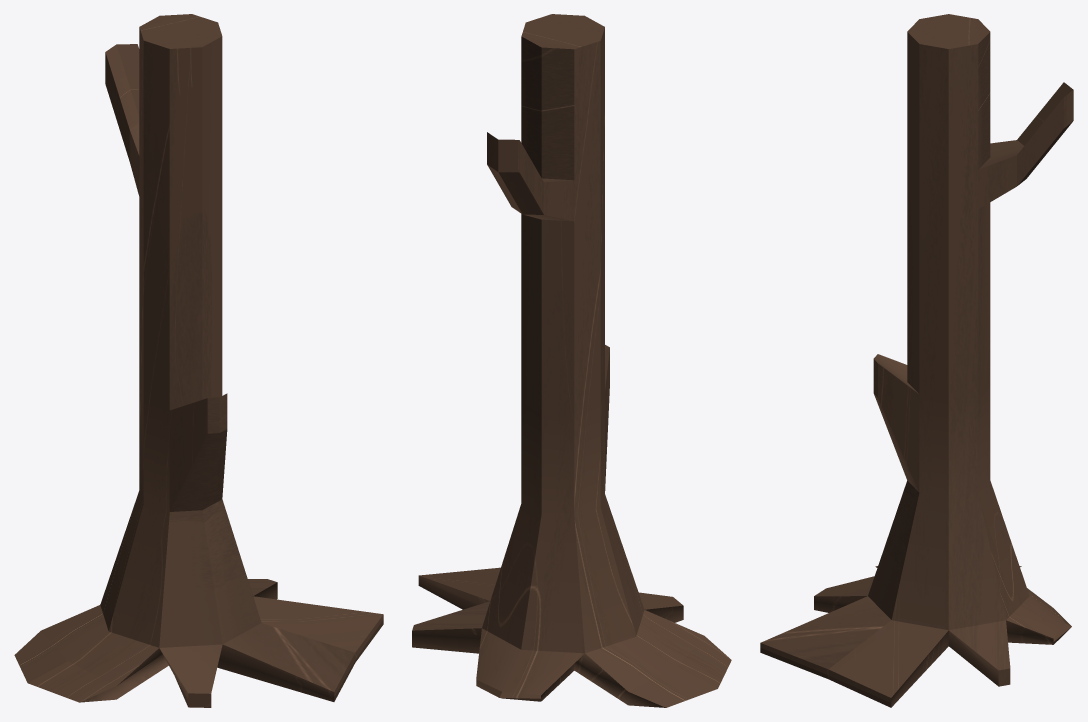
The model's file is tree03.fbx.
3 views of the same model, side by side, from view 1: azimuth 30°, elevation 25°; view 2: azimuth 150°, elevation 25°; view 3: azimuth 270°, elevation 25° (orthographic). The views are drawn at different scales.
Visible parts, largest first — view 1: pCylinder4; view 2: pCylinder4; view 3: pCylinder4.
Boxes of the visible parts, x1,y1,x2,y2 form: pCylinder4: [14, 14, 383, 707]; pCylinder4: [412, 14, 731, 707]; pCylinder4: [760, 14, 1073, 707].
Size of the model in its own units: 46.59 by 84.18 by 39.94.
